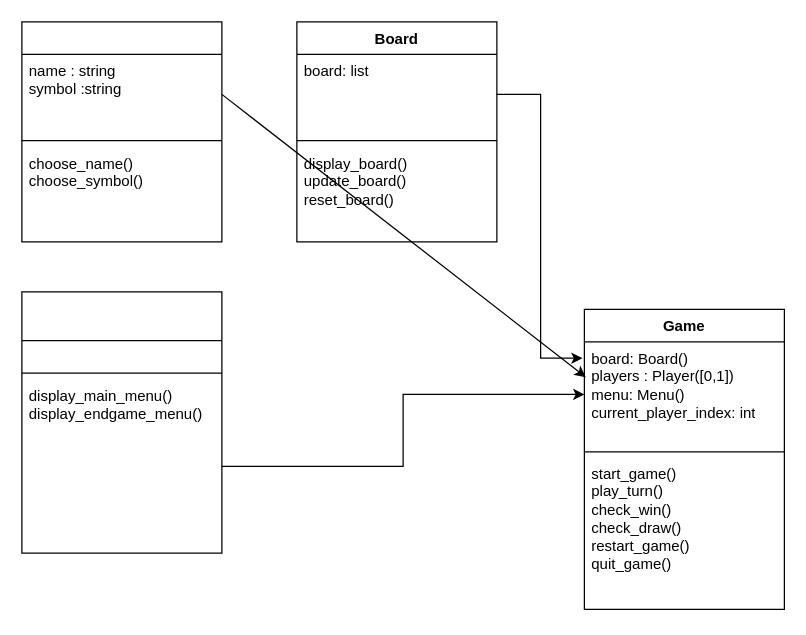
This 806x635 diagram has some shape labels left out. The shapes that lost their labels are listed below. From the top down, each one's box as (x1, y1, x2, y2) in pixels, then its label:
(21, 21, 222, 242): Player
(21, 291, 222, 553): Start menu
